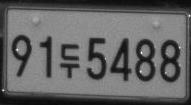1: (36, 35, 57, 78)
4: (109, 37, 132, 81)
5: (86, 37, 107, 80)
8: (134, 37, 156, 82), (159, 38, 181, 82)
9: (11, 33, 32, 77)
두: (59, 42, 80, 78)
